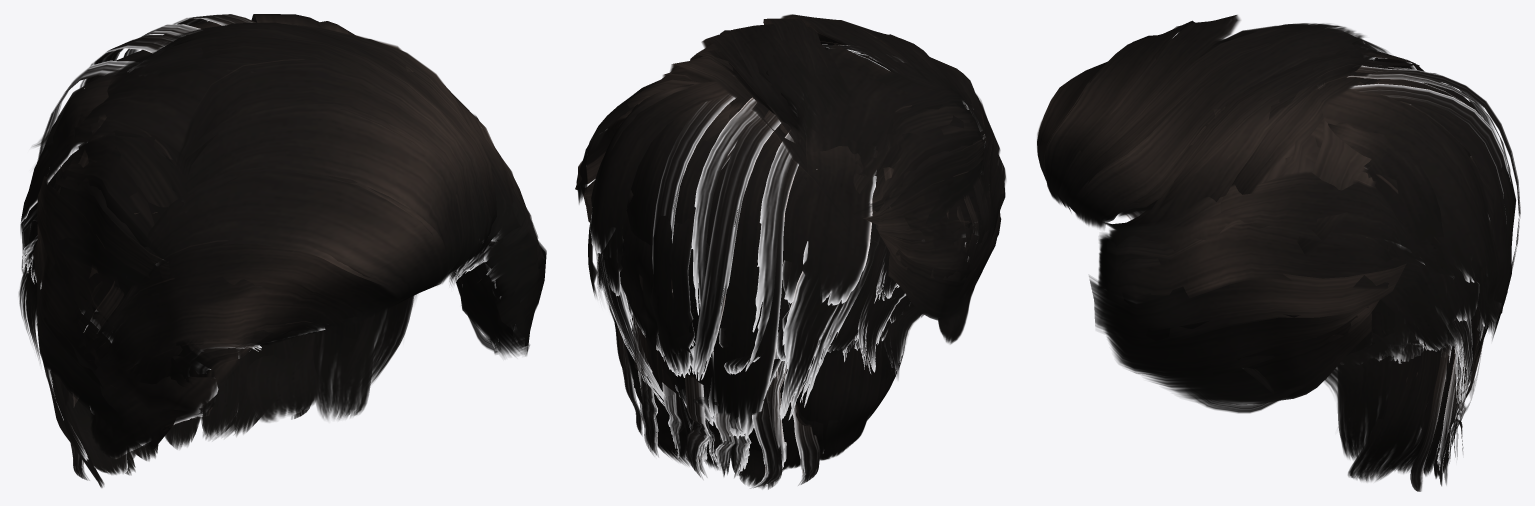
Rendered from Rectangle_Straight_SidePart.glb.
3 renders of one model, left to right at view 1: azimuth 30°, elevation 25°; view 2: azimuth 150°, elevation 25°; view 3: azimuth 270°, elevation 25°, orthographic. The views are drawn at different scales.
Parts seen in each view (by area): view 1: SIDE PART.003; view 2: SIDE PART.003; view 3: SIDE PART.003.
Boxes of the visible parts, x1,y1,x2,y2 form: SIDE PART.003: (19,14,546,487); SIDE PART.003: (575,14,1006,489); SIDE PART.003: (1037,15,1520,491).
Bounding box in the file's own units: 0.2046 × 0.2214 × 0.2251.
1 material, 1 textured.
